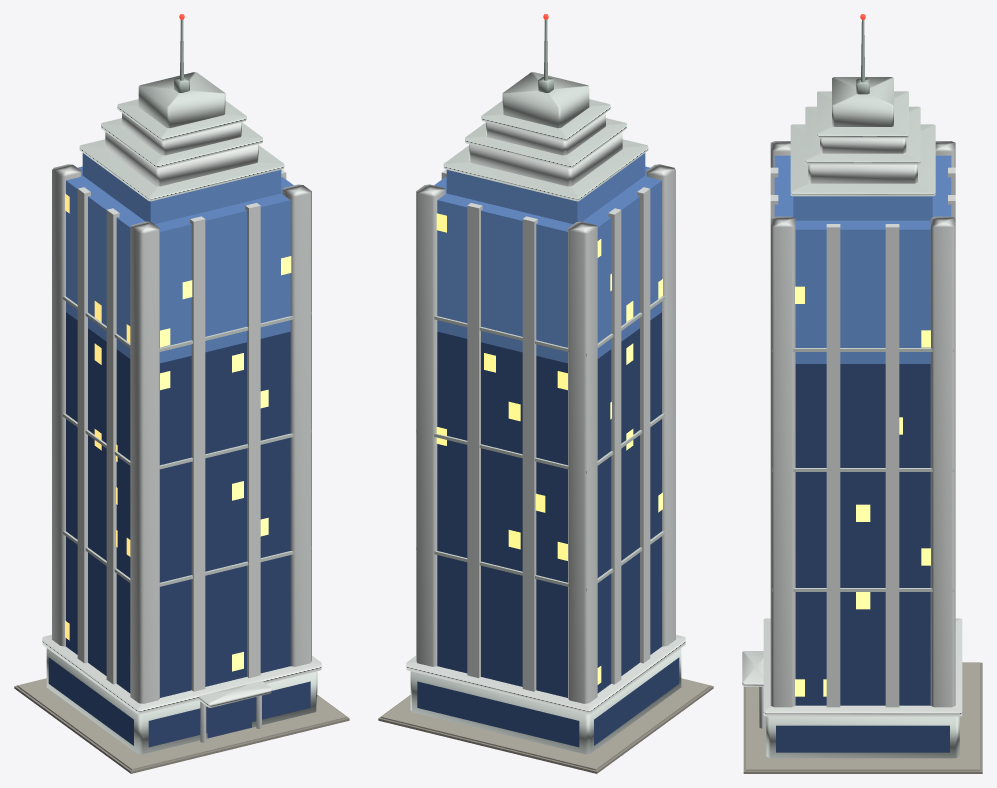
Rendered from cloudline-tower.glb.
3 views of the same model, side by side, from view 1: azimuth 30°, elevation 25°; view 2: azimuth 150°, elevation 25°; view 3: azimuth 270°, elevation 25° (orthographic). The views are drawn at different scales.
Parts seen in each view (by area): view 1: Merged_cloudline-curtain-glass-surface, Merged_cloudline-stone-light, Merged_cloudline-sky-glass-surface, Merged_cloudline-stone-light-surface, Merged_cloudline-stone (×2), Merged_cloudline-plaza, Merged_cloudline-lit-window-surface, Merged_cloudline-plaza-curb; view 2: Merged_cloudline-curtain-glass-surface, Merged_cloudline-stone-light, Merged_cloudline-sky-glass-surface, Merged_cloudline-stone-light-surface, Merged_cloudline-stone (×2), Merged_cloudline-plaza, Merged_cloudline-lit-window-surface, Merged_cloudline-plaza-curb; view 3: Merged_cloudline-curtain-glass-surface, Merged_cloudline-stone-light, Merged_cloudline-sky-glass-surface, Merged_cloudline-stone (×2), Merged_cloudline-stone-light-surface, Merged_cloudline-plaza, Merged_cloudline-plaza-curb, Merged_cloudline-lit-window-surface, Merged_cloudline-stone-shade.
Part boxes in pixels (<box>): Merged_cloudline-curtain-glass-surface: <box>48,312,310,747</box>; Merged_cloudline-stone-light: <box>42,113,321,742</box>; Merged_cloudline-sky-glass-surface: <box>66,153,293,363</box>; Merged_cloudline-stone-light-surface: <box>77,169,286,691</box>; Merged_cloudline-stone (×2): <box>46,72,317,754</box>; Merged_cloudline-plaza: <box>17,678,346,770</box>; Merged_cloudline-lit-window-surface: <box>65,193,291,671</box>; Merged_cloudline-plaza-curb: <box>14,685,349,773</box>; Merged_cloudline-curtain-glass-surface: <box>417,312,679,747</box>; Merged_cloudline-stone-light: <box>406,113,685,714</box>; Merged_cloudline-sky-glass-surface: <box>434,153,661,363</box>; Merged_cloudline-stone-light-surface: <box>441,169,650,691</box>; Merged_cloudline-stone (×2): <box>410,72,681,754</box>; Merged_cloudline-plaza: <box>381,678,710,770</box>; Merged_cloudline-lit-window-surface: <box>436,213,662,684</box>; Merged_cloudline-plaza-curb: <box>378,685,713,773</box>; Merged_cloudline-curtain-glass-surface: <box>776,364,949,752</box>; Merged_cloudline-stone-light: <box>742,138,962,728</box>; Merged_cloudline-sky-glass-surface: <box>774,155,951,363</box>; Merged_cloudline-stone (×2): <box>766,77,959,758</box>; Merged_cloudline-stone-light-surface: <box>770,167,955,707</box>; Merged_cloudline-plaza: <box>746,662,979,770</box>; Merged_cloudline-plaza-curb: <box>743,662,982,773</box>; Merged_cloudline-lit-window-surface: <box>795,286,930,696</box>; Merged_cloudline-stone-shade: <box>856,19,869,94</box>.
Size of what is drawn, in the model's own units: 6.26 by 18.89 by 5.83.
